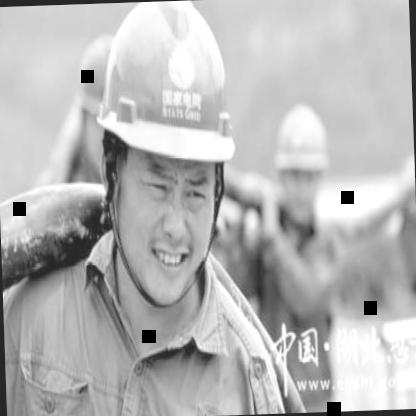helmet: (83, 0, 253, 320), (269, 92, 336, 231)
